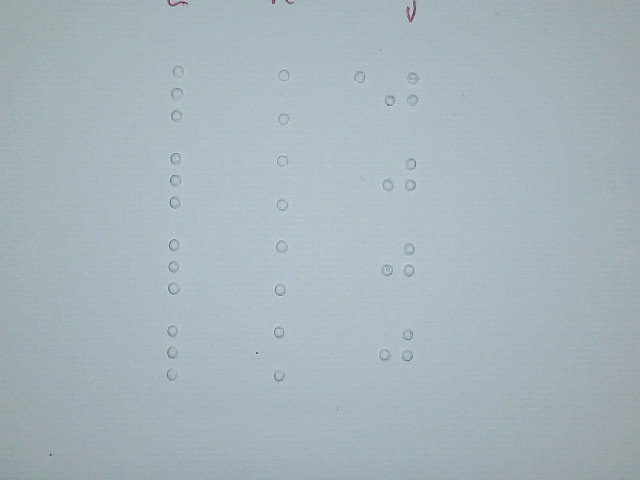J: (382, 63, 421, 125), (379, 148, 418, 210), (378, 233, 417, 295), (377, 318, 416, 380)
K: (269, 65, 308, 127), (269, 152, 308, 214), (267, 236, 306, 298), (264, 321, 303, 383)
L: (163, 63, 202, 125), (161, 150, 200, 212), (160, 235, 199, 297), (158, 321, 197, 383)
